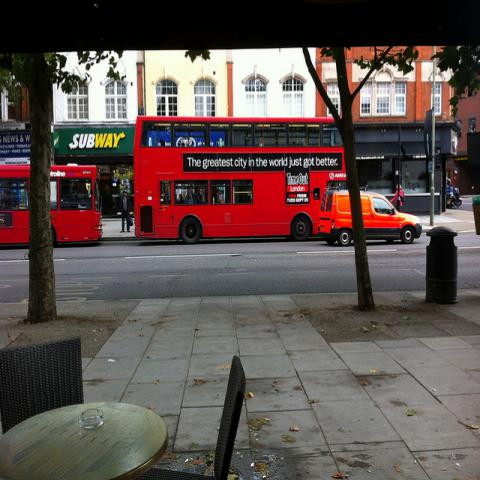bus: (134, 114, 348, 244), (0, 163, 103, 248)
car: (360, 192, 422, 245), (318, 189, 354, 246)
truck: (318, 184, 423, 246)
